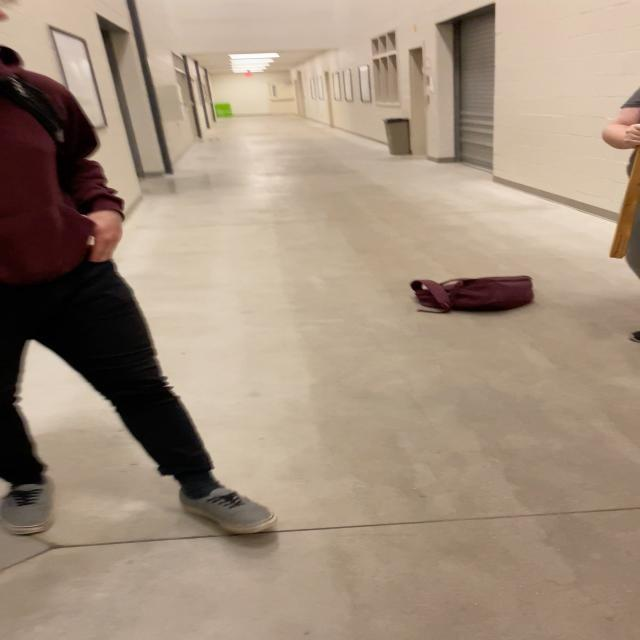Backpacks: (414, 274, 532, 313)
